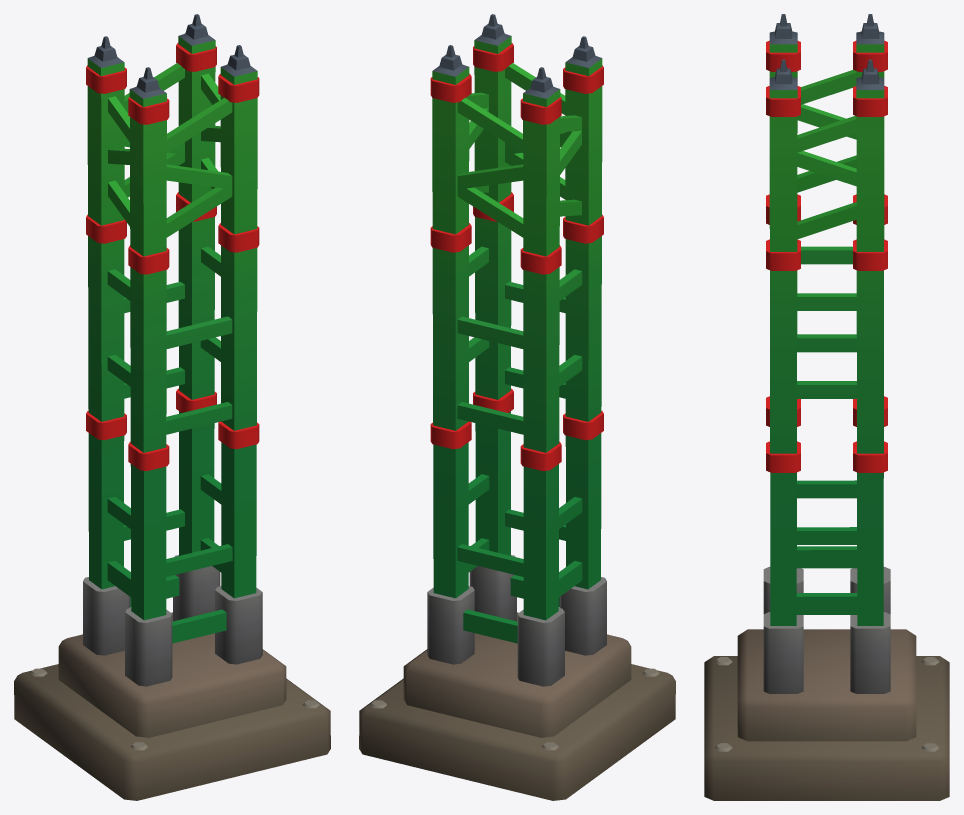
File: SignalTower_2_D.fbx
3 views of the same model, side by side, from view 1: azimuth 30°, elevation 25°; view 2: azimuth 150°, elevation 25°; view 3: azimuth 270°, elevation 25° (orthographic). The views are drawn at different scales.
Visible parts, largest first — view 1: SignalTower_2_D; view 2: SignalTower_2_D; view 3: SignalTower_2_D.
Boxes of the visible parts, <box> form: SignalTower_2_D: <box>14,14,330,800</box>; SignalTower_2_D: <box>359,14,675,800</box>; SignalTower_2_D: <box>704,14,949,800</box>.
Size of the model in its own units: 96.58 by 309 by 96.56.
